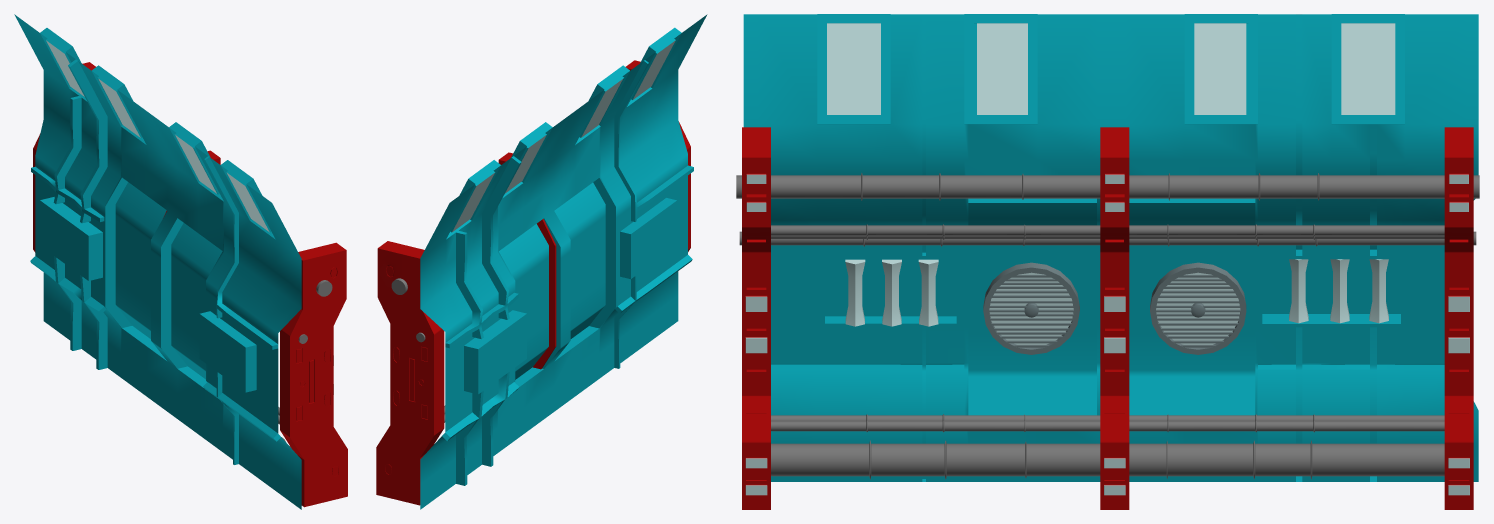
The model's file is pared.fbx.
3 renders of one model, left to right at view 1: azimuth 30°, elevation 25°; view 2: azimuth 150°, elevation 25°; view 3: azimuth 270°, elevation 25°, orthographic. The views are drawn at different scales.
Visible parts, largest first — view 1: polySurface111; view 2: polySurface111; view 3: polySurface111.
Part boxes in pixels (x1,y1,x2,y2): polySurface111: [14, 14, 347, 509]; polySurface111: [376, 14, 707, 509]; polySurface111: [736, 14, 1479, 509].
Size of the model in its own units: 4.81 by 17.34 by 25.81.
